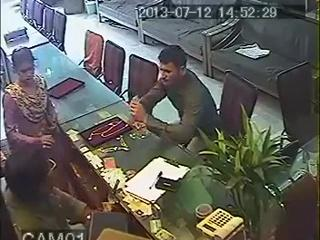Normal: (182, 104, 309, 240), (126, 46, 224, 149), (201, 16, 319, 98), (2, 146, 96, 238), (2, 47, 58, 154), (276, 61, 319, 154)
